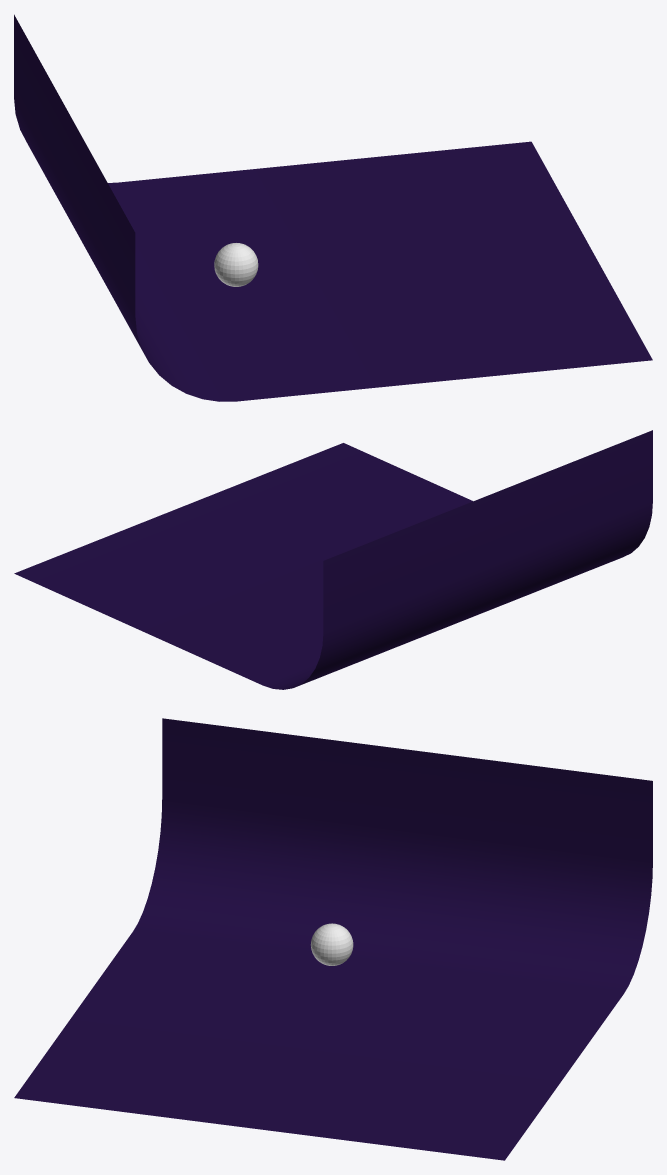
The model's file is melon.fbx.
3 renders of one model, top to bottom at view 1: azimuth 30°, elevation 25°; view 2: azimuth 150°, elevation 25°; view 3: azimuth 270°, elevation 25°, orthographic. The views are drawn at different scales.
Visible parts, largest first — view 1: Plane.003, Sphere; view 2: Plane.003; view 3: Plane.003, Sphere.
Boxes of the visible parts, box(x1,y1,x2,y2) form: Plane.003: box(14, 14, 652, 401); Sphere: box(214, 243, 258, 286); Plane.003: box(14, 430, 652, 689); Plane.003: box(14, 718, 652, 1160); Sphere: box(310, 923, 353, 965).
Bounding box in the file's own units: 3816 × 1136 × 3816.
